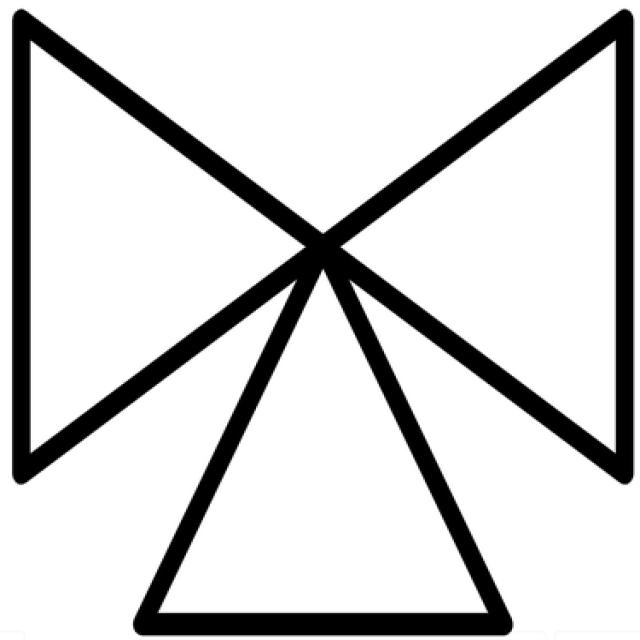3-way Valve: (331, 20, 633, 484), (22, 19, 317, 476), (149, 250, 506, 627)
